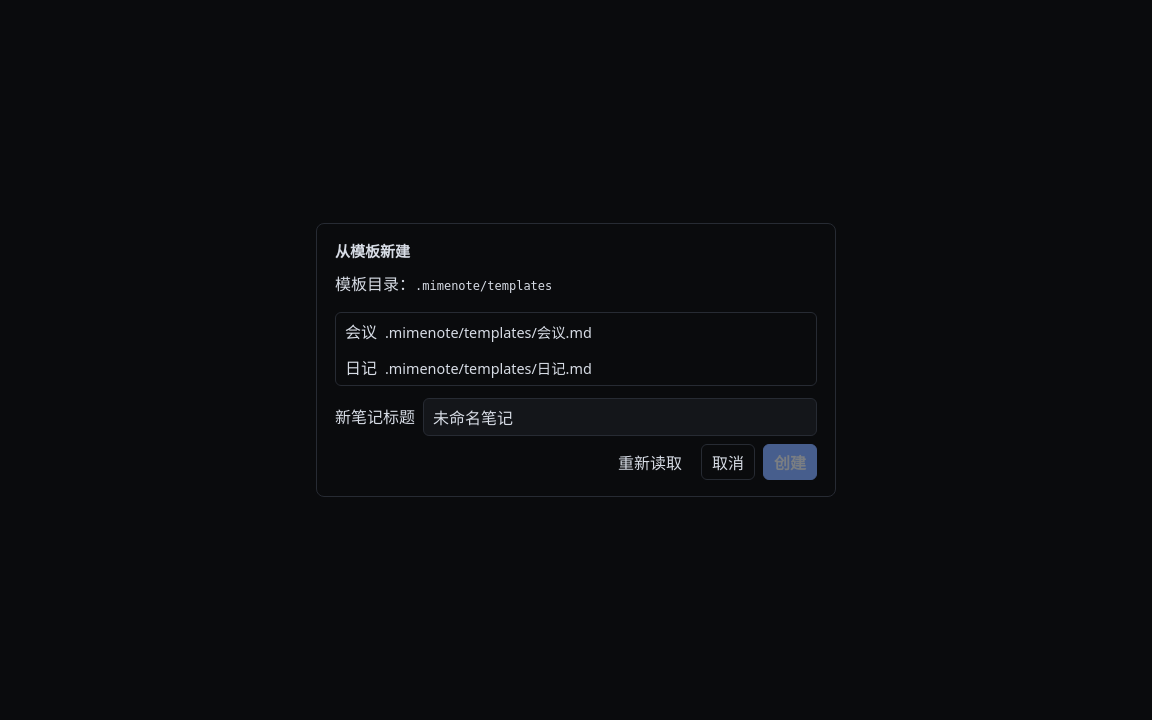
Test case: 从模板新建 › 第二步可以退回第一步，且什么都没创建
The width and height of the screenshot is (1152, 720).
Click the option "会议 .mimenote/templates/会议.md" at (576, 331), box top-left (336, 313), bottom-right (816, 349)
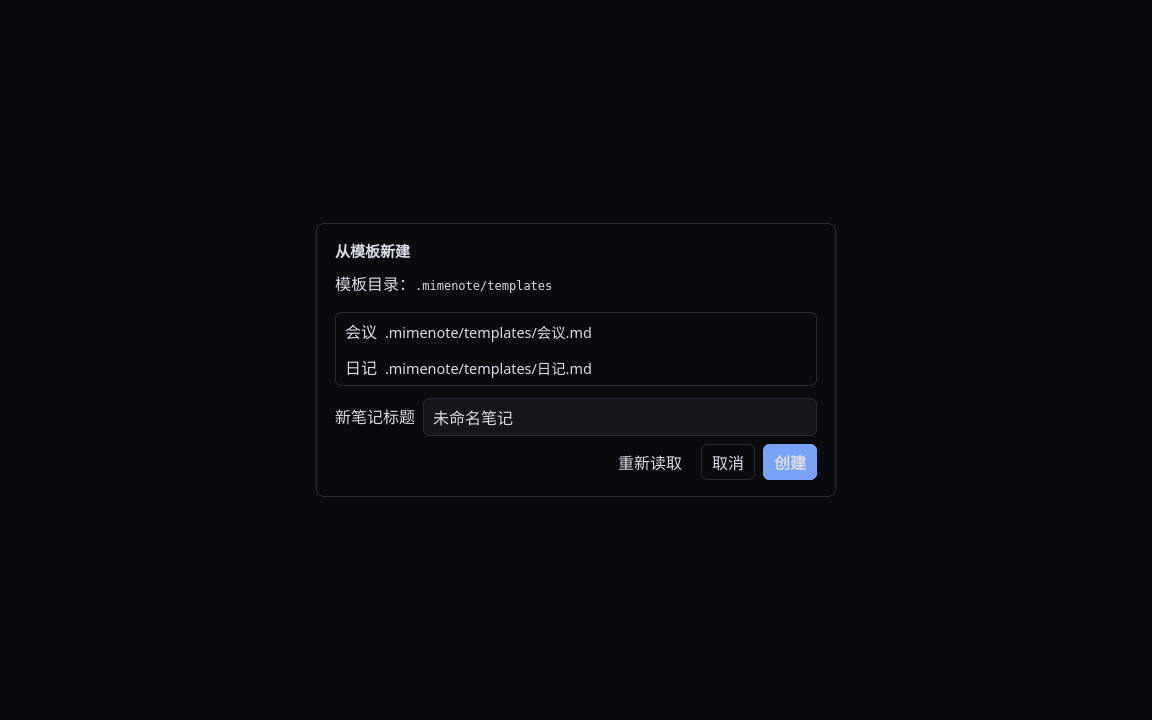
Click the button "创建" at (790, 462), box top-left (763, 444), bottom-right (817, 480)
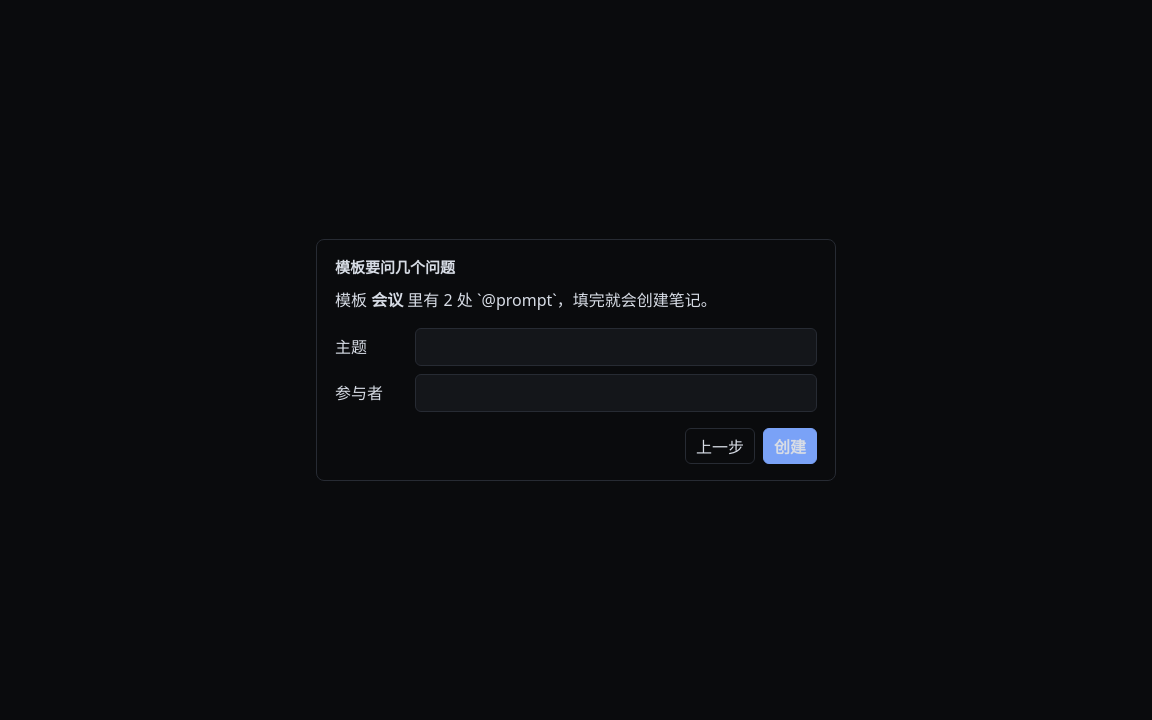
Now the field labelled "主题" is shown, box top-left (415, 328), bottom-right (817, 366)
Click the button "上一步" at (720, 446), box top-left (685, 428), bottom-right (755, 464)
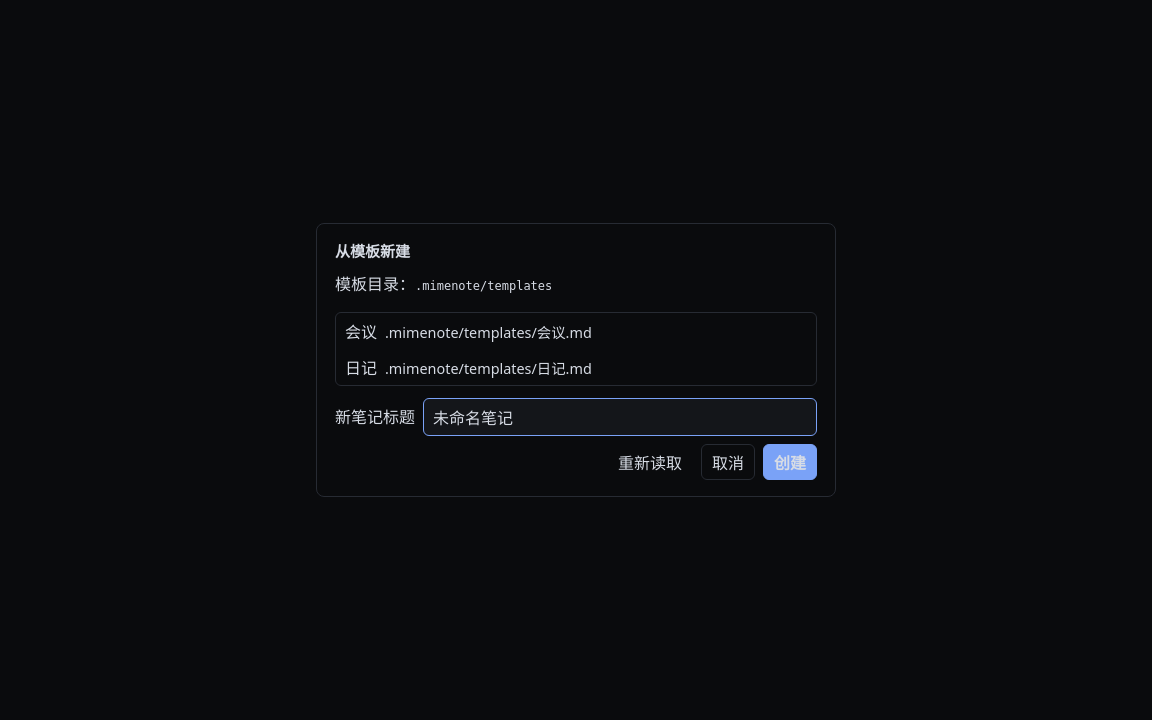
Now the field labelled "新笔记标题" is shown, box top-left (423, 398), bottom-right (817, 436)
